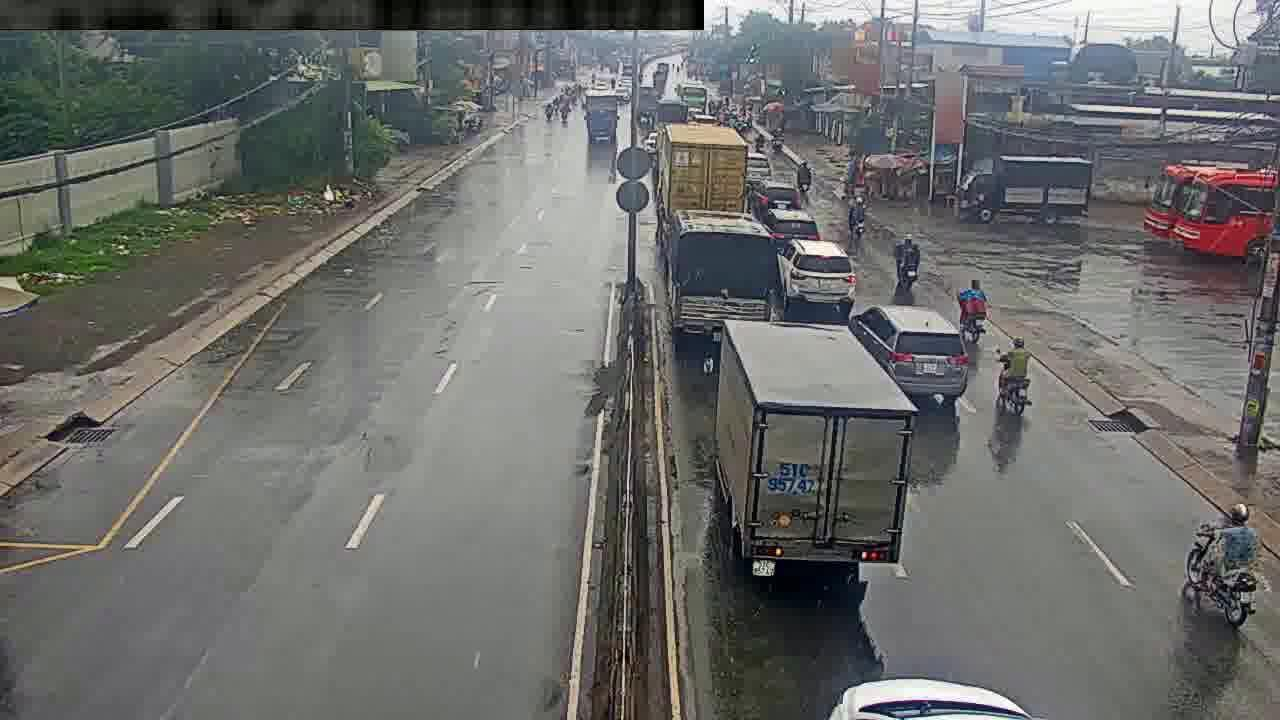8: (711, 319, 912, 574), (669, 213, 774, 334), (670, 128, 755, 239), (586, 100, 623, 145)
container: (849, 307, 963, 398), (778, 236, 854, 306), (748, 181, 806, 210), (771, 206, 814, 237)
motorbike: (1183, 498, 1251, 624), (994, 339, 1032, 426), (959, 279, 986, 344), (895, 234, 921, 291), (845, 190, 866, 238), (794, 157, 814, 191)
